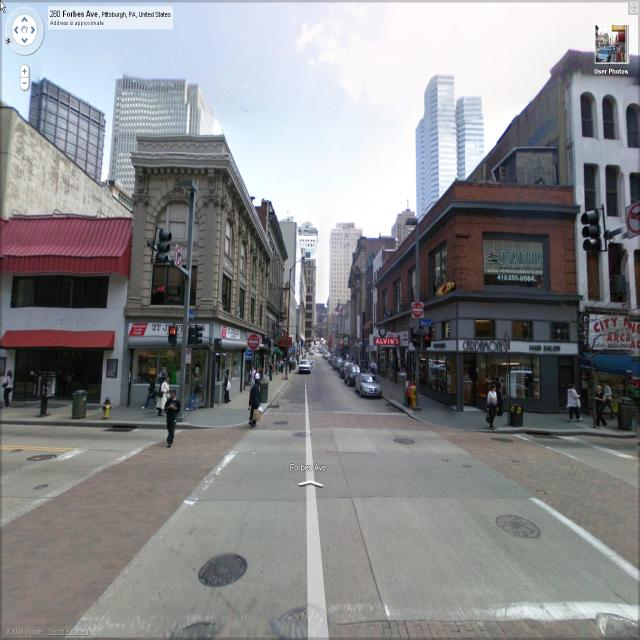b_1: (378, 187, 575, 407), (136, 150, 266, 404), (1, 205, 123, 405), (98, 64, 212, 175), (410, 67, 486, 207), (31, 73, 102, 165), (264, 203, 300, 358), (358, 252, 388, 390), (330, 211, 360, 330), (297, 242, 318, 348)
